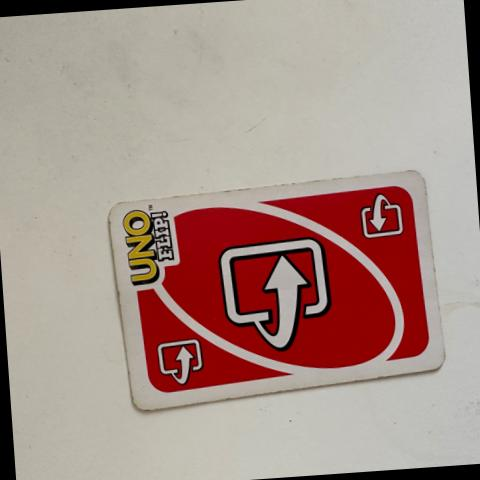lredflip-20: (134, 316, 224, 400)
